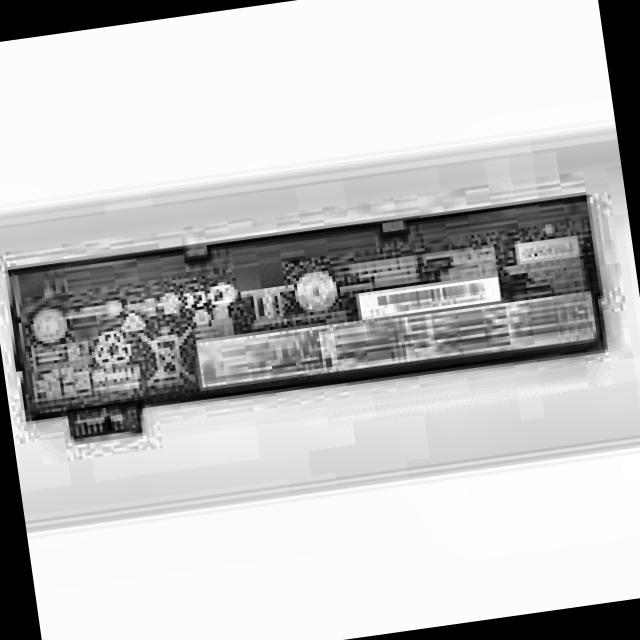Battery: (0, 175, 622, 450)
